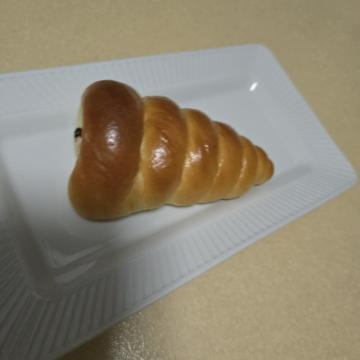cream horn: (70, 76, 249, 317)
